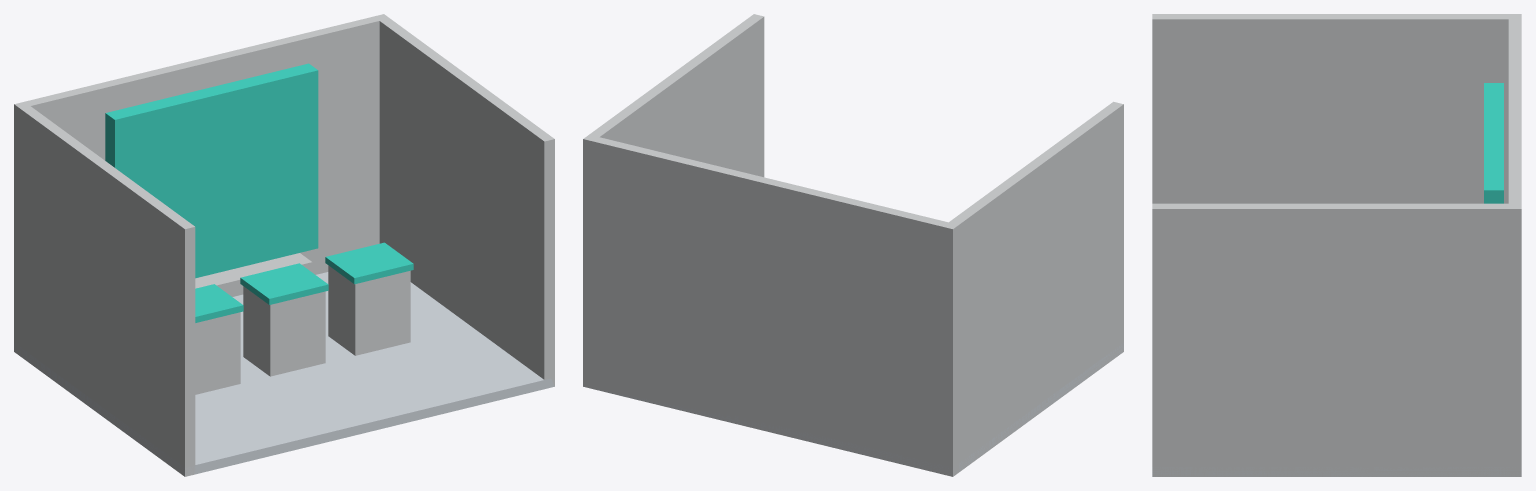
3 views of the same model, side by side, from view 1: azimuth 30°, elevation 25°; view 2: azimuth 150°, elevation 25°; view 3: azimuth 270°, elevation 25° (orthographic). The views are drawn at different scales.
Parts seen in each view (by area): view 1: Exhibition Booth Concept; view 2: Exhibition Booth Concept; view 3: Exhibition Booth Concept.
Part boxes in pixels (left/top/right/bottom): Exhibition Booth Concept: left=14, top=14, right=554, bottom=476; Exhibition Booth Concept: left=583, top=14, right=1123, bottom=476; Exhibition Booth Concept: left=1152, top=14, right=1521, bottom=476.
Size of the model in its own units: 5 by 3.2 by 4.
